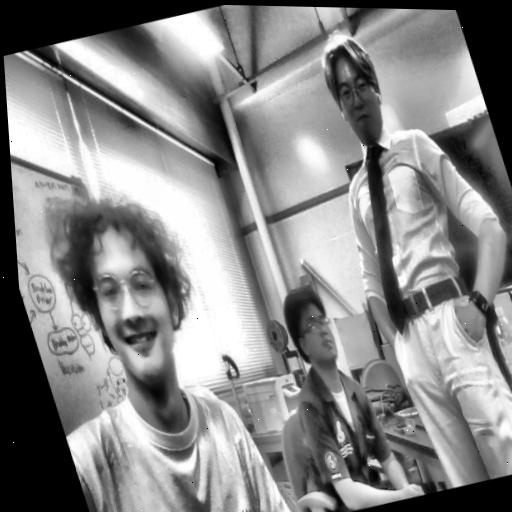Daifuku: (40, 177, 218, 399)
Not Daifuku: (314, 27, 403, 153), (272, 276, 351, 388)
